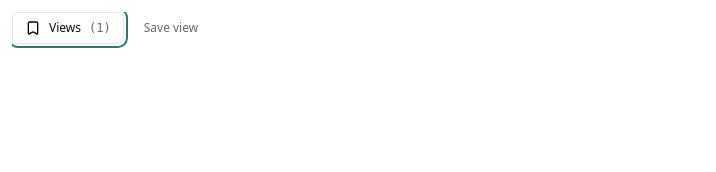
Test: honestly retains a view after storage refuses deletion
Press ArrowDown in the button "Views (1)", box [12,12,124,44]
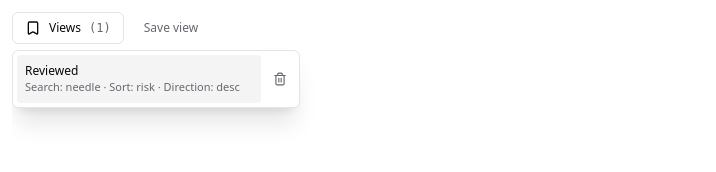
Expected: the menu named "Saved views" is shown, [12,50,300,108]
Click the menu item named "Delete view Reviewed". click: [280, 79]
box: [265,64,295,94]
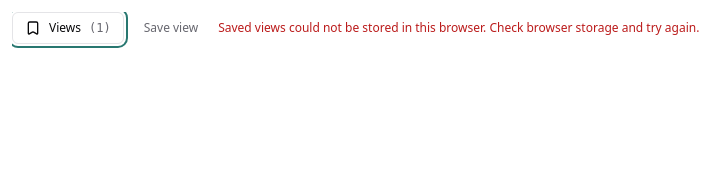
Expected: the text "(1)" is shown, [89,20,111,36]
Expected: the text "could not be stored" is shown, [218,19,700,36]
